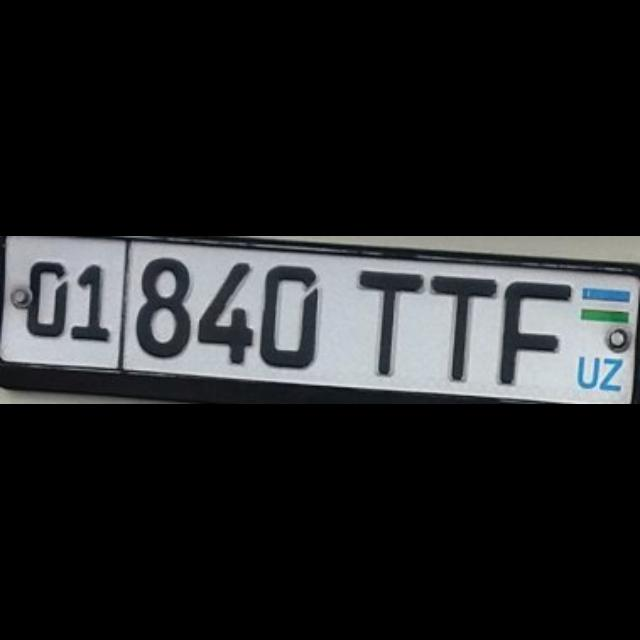0: (256, 264, 314, 368), (24, 260, 68, 336)
1: (67, 263, 106, 341)
4: (196, 262, 250, 364)
8: (133, 256, 187, 358)
F: (497, 280, 571, 384)
T: (429, 275, 495, 381), (358, 270, 420, 374)
